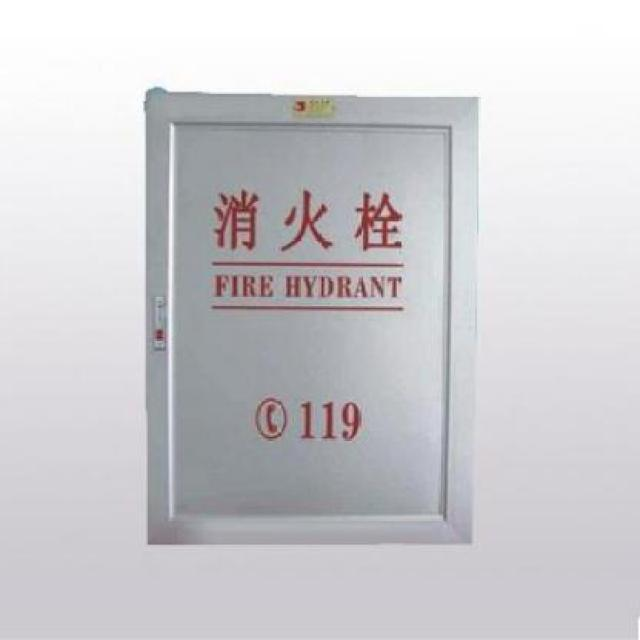firehydrant: (137, 83, 485, 550)
